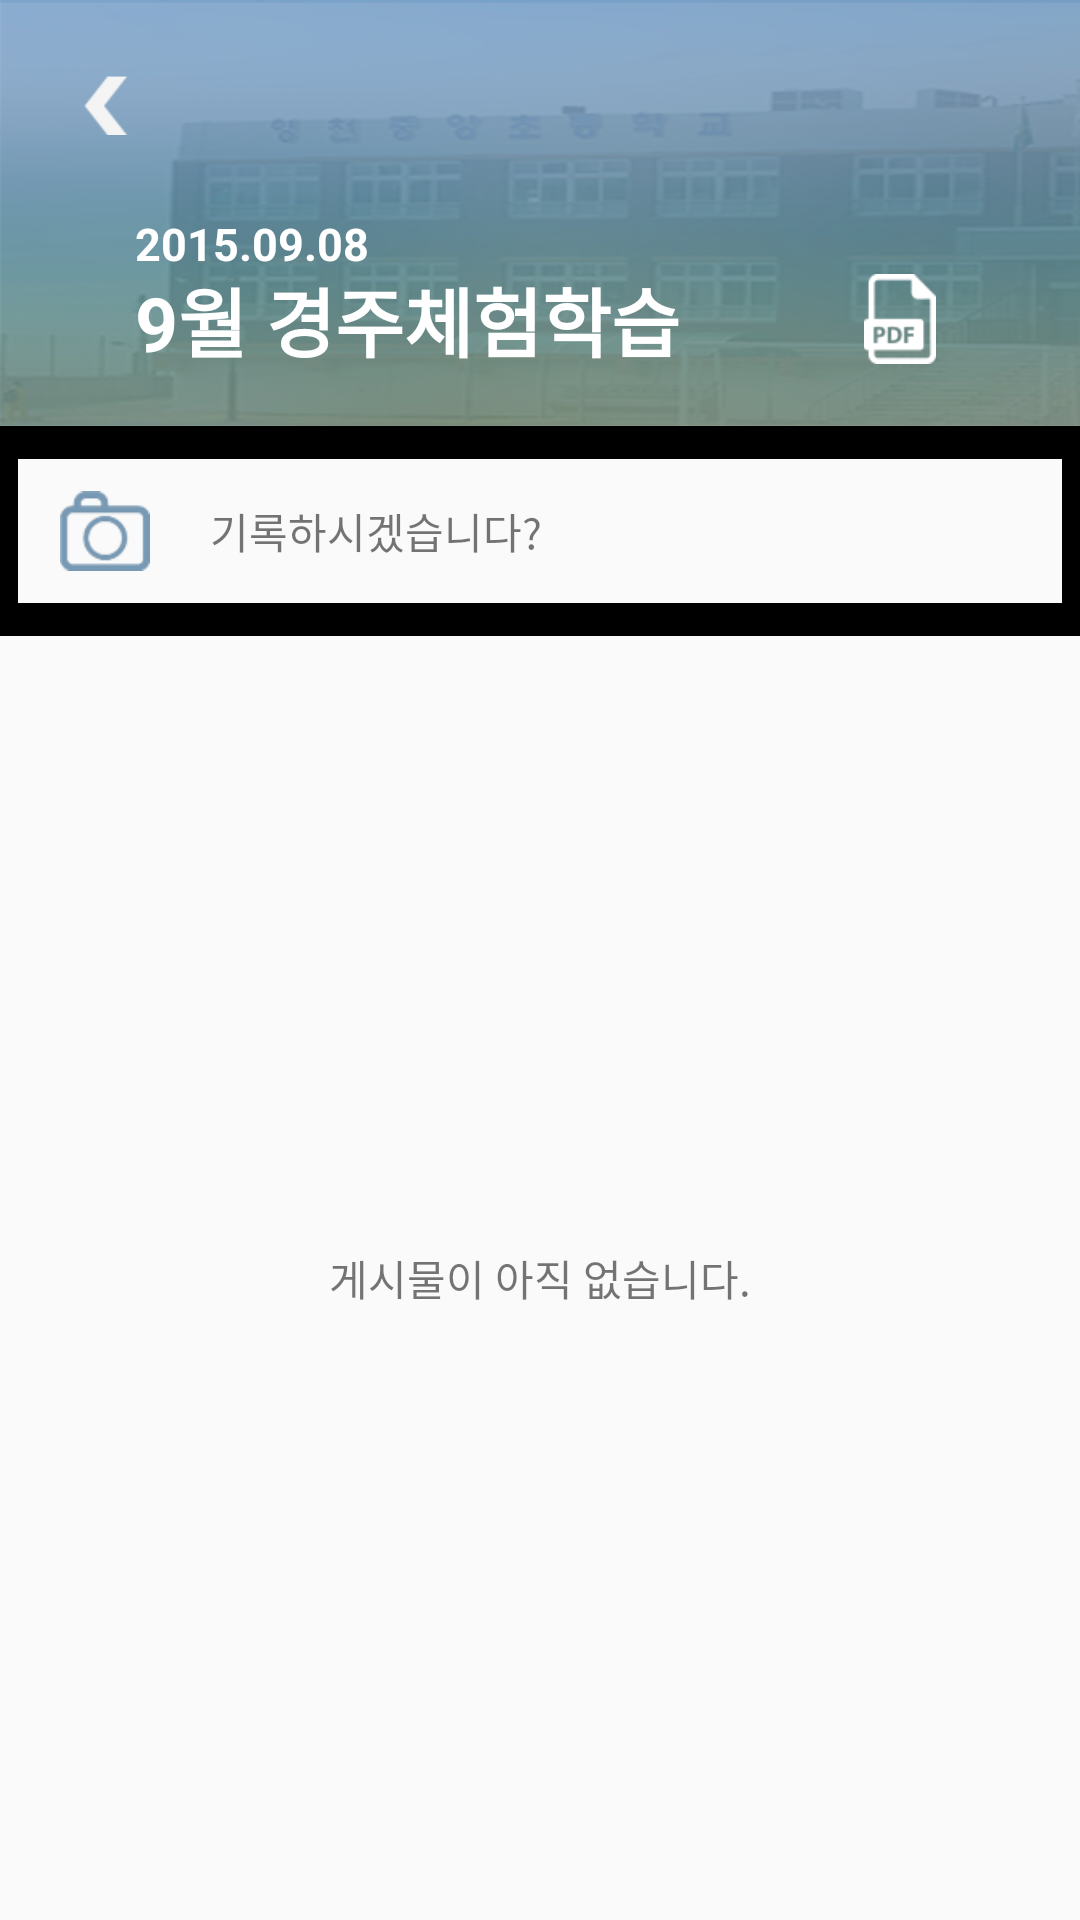

Screen size 1080*1920. Icon name, then its center in pixels as point (x, y):
back: point (106, 105)
camera: point (105, 531)
